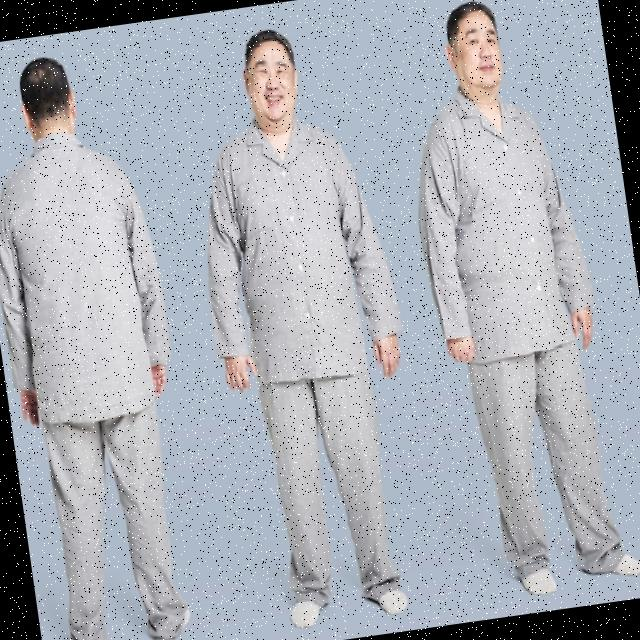Person: (175, 16, 444, 634), (390, 0, 640, 605), (0, 44, 212, 640)
